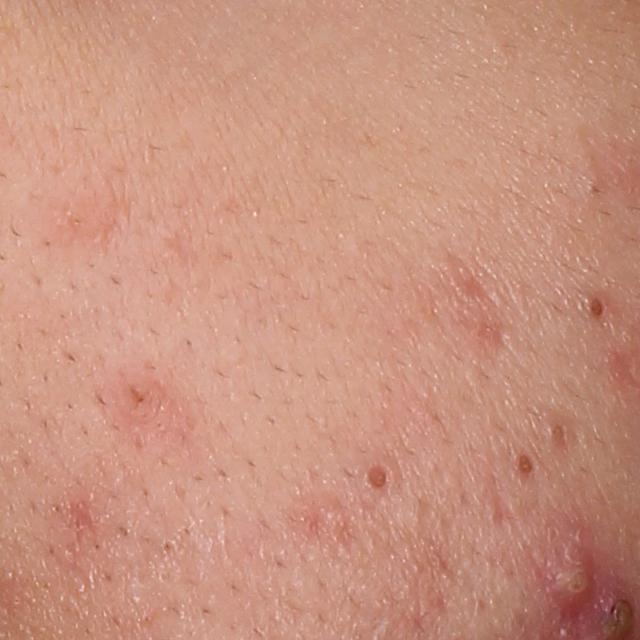comedo: (353, 451, 404, 495), (507, 445, 542, 483), (584, 291, 611, 325)
pustule: (541, 527, 599, 613)
